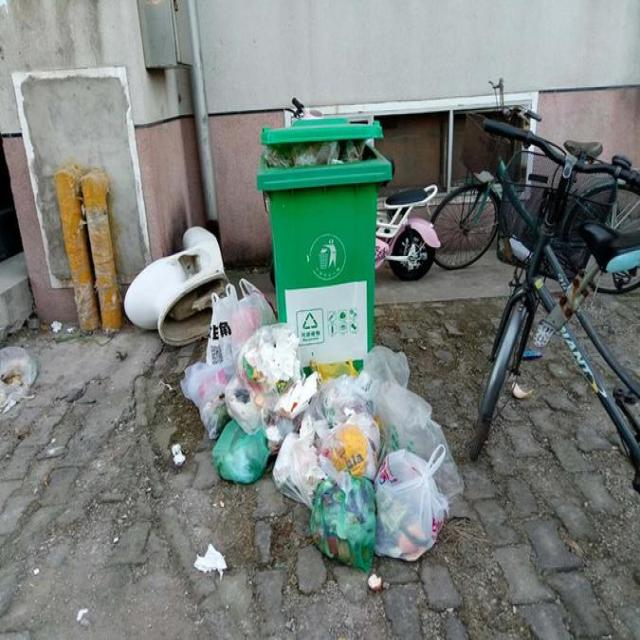garbage: (170, 277, 460, 590)
overflow: (256, 114, 391, 371)
